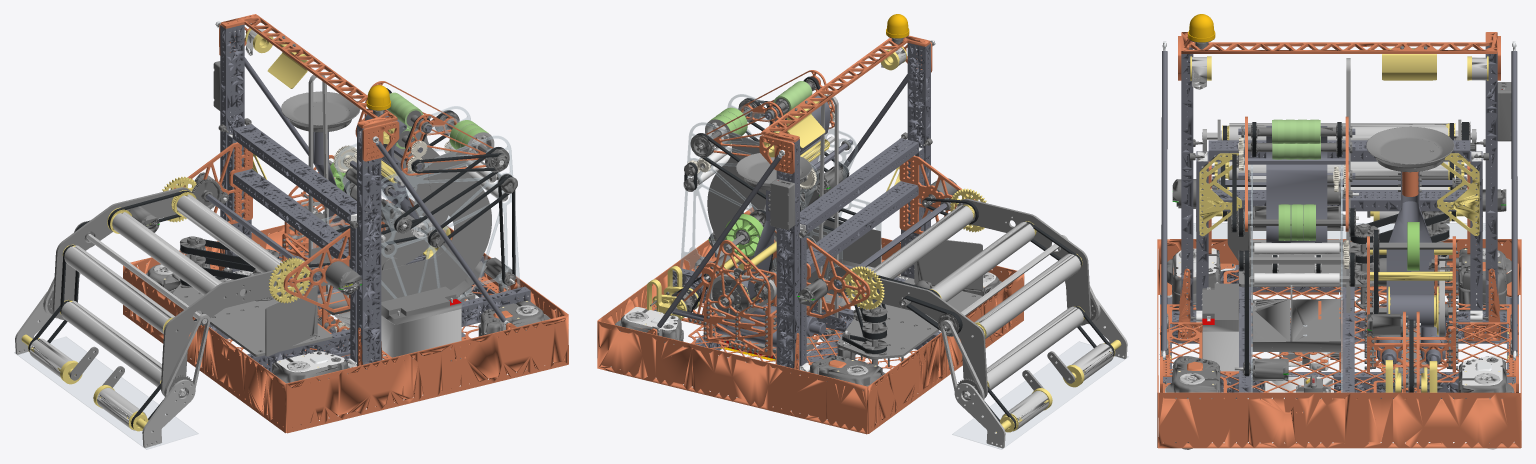
File: hero-fireweed-1540.glb
3 views of the same model, side by side, from view 1: azimuth 30°, elevation 25°; view 2: azimuth 150°, elevation 25°; view 3: azimuth 270°, elevation 25° (orthographic). The views are drawn at different scales.
Visible parts, largest first — view 1: frame, intake, elevator-carriage, intake-ee, climb-cup, hood, climb-tube, wheel-3; view 2: frame, intake, elevator-carriage, intake-ee, hood, climb-cup, climb-tube, wheel-2; view 3: frame, elevator-carriage, intake, climb-tube, climb-cup, intake-ee, hood, wheel-2, wheel-3, wheel-7.
Part boxes in pixels (left/top/right/bottom): frame: left=123, top=14, right=568, bottom=433; intake: left=28, top=176, right=310, bottom=431; elevator-carriage: left=174, top=118, right=383, bottom=368; intake-ee: left=14, top=289, right=198, bottom=449; climb-cup: left=281, top=91, right=360, bottom=132; hood: left=355, top=81, right=492, bottom=175; climb-tube: left=313, top=132, right=348, bottom=233; wheel-3: left=461, top=128, right=494, bottom=161; frame: left=597, top=14, right=1024, bottom=434; intake: left=844, top=188, right=1115, bottom=432; elevator-carriage: left=775, top=132, right=978, bottom=375; intake-ee: left=952, top=296, right=1128, bottom=449; hood: left=706, top=70, right=834, bottom=156; climb-cup: left=736, top=153, right=811, bottom=190; climb-tube: left=741, top=190, right=775, bottom=299; wheel-2: left=705, top=115, right=736, bottom=147; frame: left=1157, top=14, right=1521, bottom=449; elevator-carriage: left=1172, top=139, right=1506, bottom=322; intake: left=1202, top=119, right=1476, bottom=221; climb-tube: left=1386, top=171, right=1433, bottom=327; climb-cup: left=1366, top=126, right=1454, bottom=196; intake-ee: left=1193, top=179, right=1485, bottom=244; hood: left=1245, top=116, right=1348, bottom=231; wheel-2: left=1303, top=204, right=1315, bottom=240; wheel-3: left=1278, top=204, right=1290, bottom=240; wheel-7: left=1291, top=204, right=1303, bottom=240.
Bounding box in the file's own units: 1.1 × 0.8089 × 0.7602.
